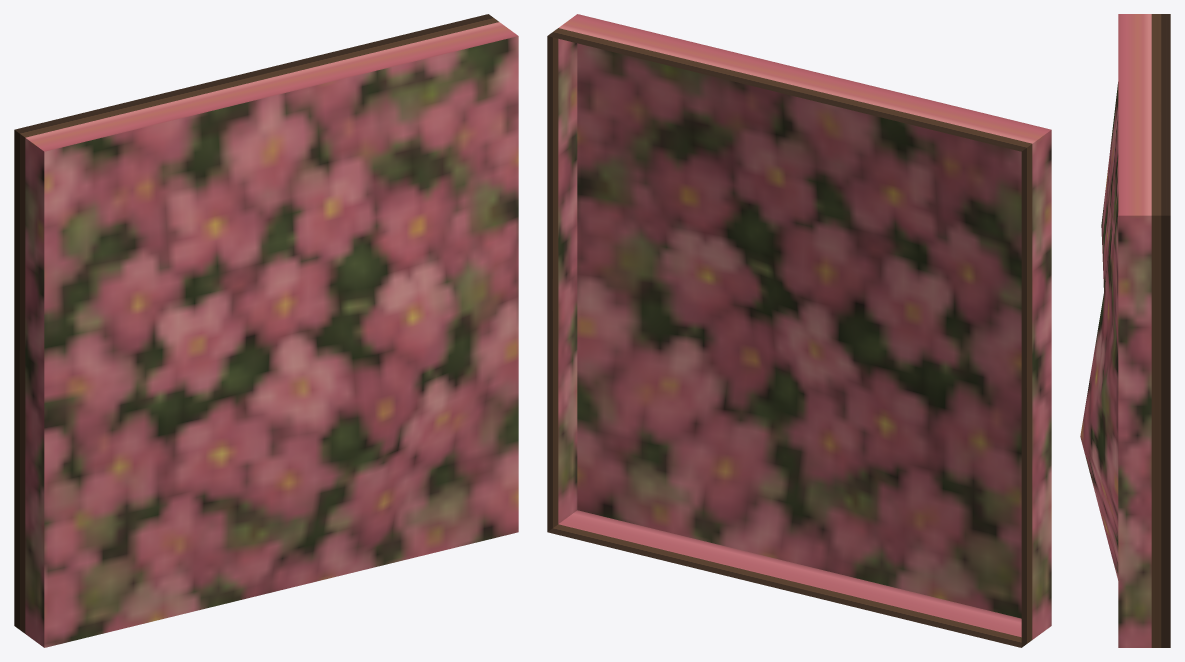
File: keep-bed-salmon.obj
3 views of the same model, side by side, from view 1: azimuth 30°, elevation 25°; view 2: azimuth 150°, elevation 25°; view 3: azimuth 270°, elevation 25° (orthographic). The views are drawn at different scales.
Parts seen in each view (by area): view 1: bed-salmon; view 2: bed-salmon; view 3: bed-salmon.
Part boxes in pixels (x1,y1,x2,y2): bed-salmon: (14,14,518,647); bed-salmon: (547,14,1051,647); bed-salmon: (1080,14,1170,647).
Size of the model in its own units: 1 by 1 by 0.1895.
1 material, 1 textured.
